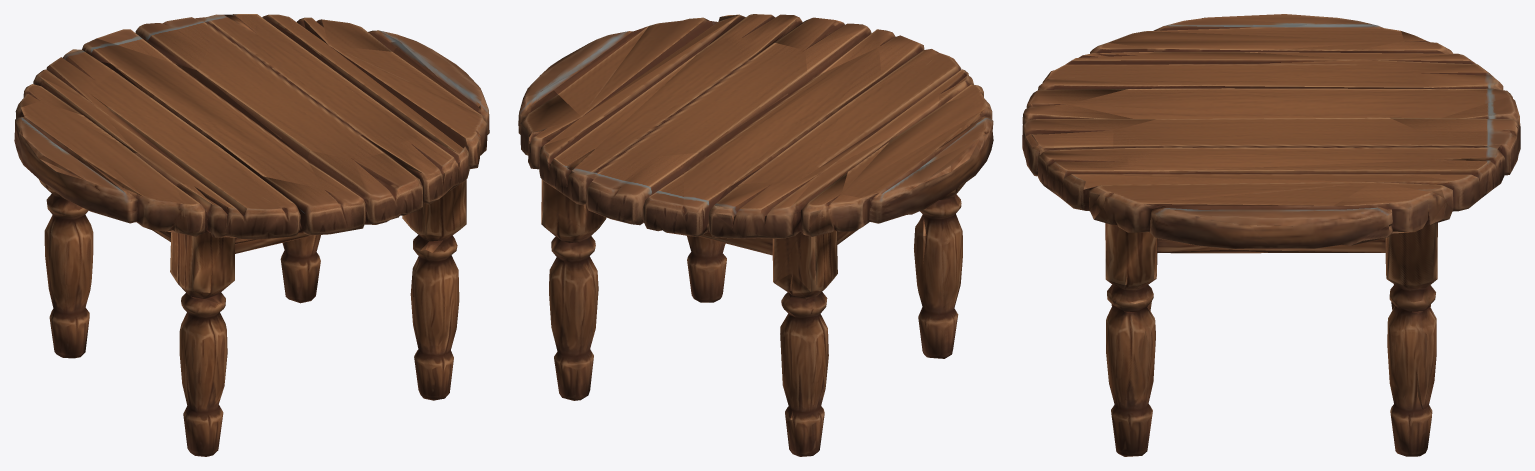
The model's file is Prop_Table.fbx.
3 views of the same model, side by side, from view 1: azimuth 30°, elevation 25°; view 2: azimuth 150°, elevation 25°; view 3: azimuth 270°, elevation 25° (orthographic). The views are drawn at different scales.
Visible parts, largest first — view 1: Mesh_0; view 2: Mesh_0; view 3: Mesh_0.
Part boxes in pixels (x1=…): Mesh_0: x1=14, y1=14, x2=489, y2=456; Mesh_0: x1=518, y1=14, x2=993, y2=456; Mesh_0: x1=1022, y1=14, x2=1520, y2=456.
Size of the model in its own units: 189 by 116 by 190.
1 material, 1 textured.
